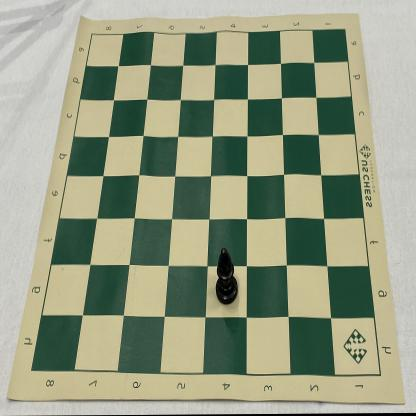black-bishop: (214, 249, 238, 306)
